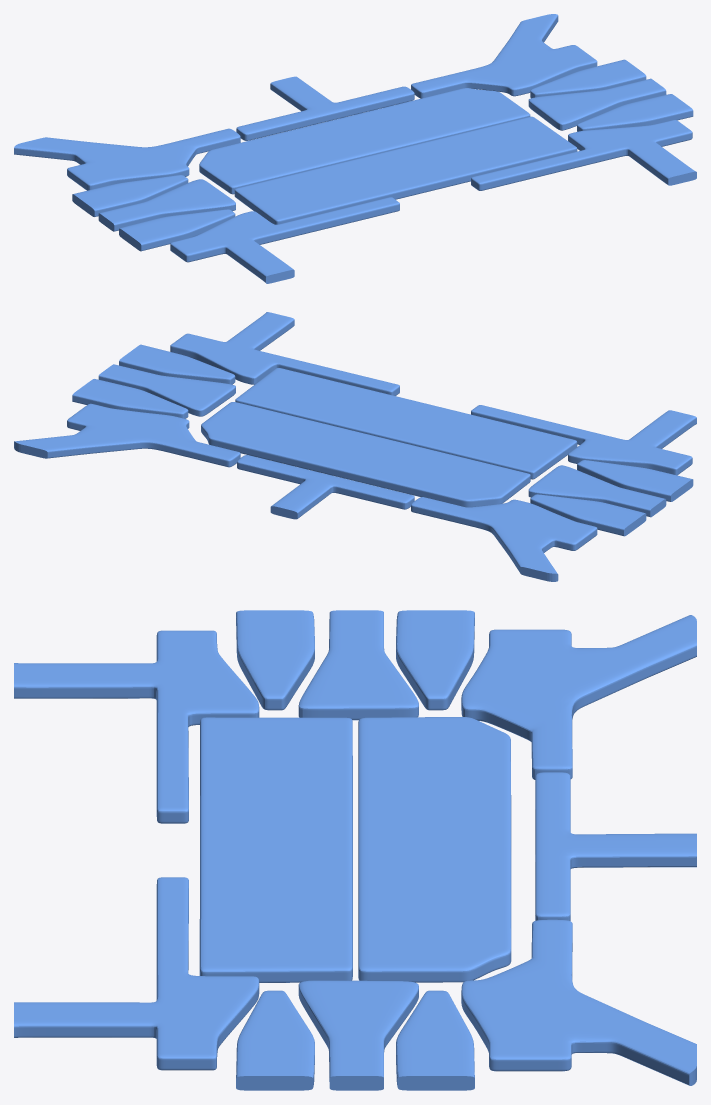
Rendered from protect-gold-plate.glb.
3 views of the same model, one above another, from view 1: azimuth 30°, elevation 25°; view 2: azimuth 150°, elevation 25°; view 3: azimuth 270°, elevation 25° (orthographic). The views are drawn at different scales.
Parts seen in each view (by area): view 1: LOWER-GATE; view 2: LOWER-GATE; view 3: LOWER-GATE.
Part boxes in pixels (x1,y1,x2,y2): LOWER-GATE: (14, 14, 696, 283); LOWER-GATE: (14, 312, 696, 581); LOWER-GATE: (14, 610, 696, 1090).
Bounding box in the file's own units: 0.1711 × 0.0025 × 0.106.
